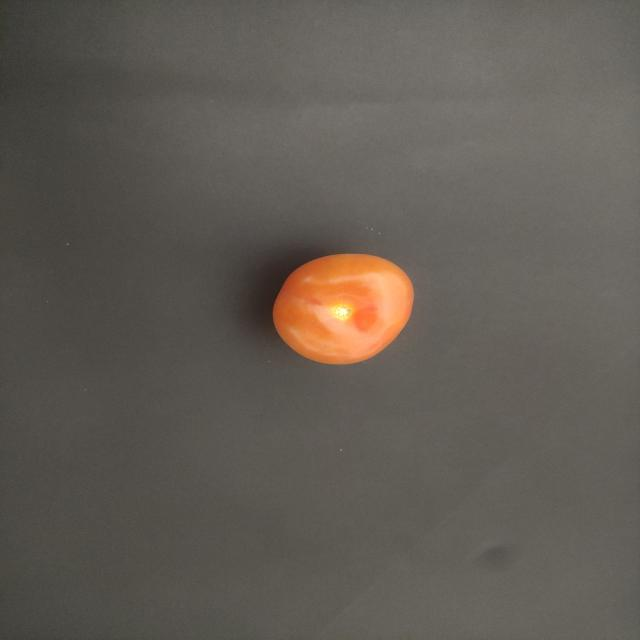sari: (267, 239, 426, 374)
